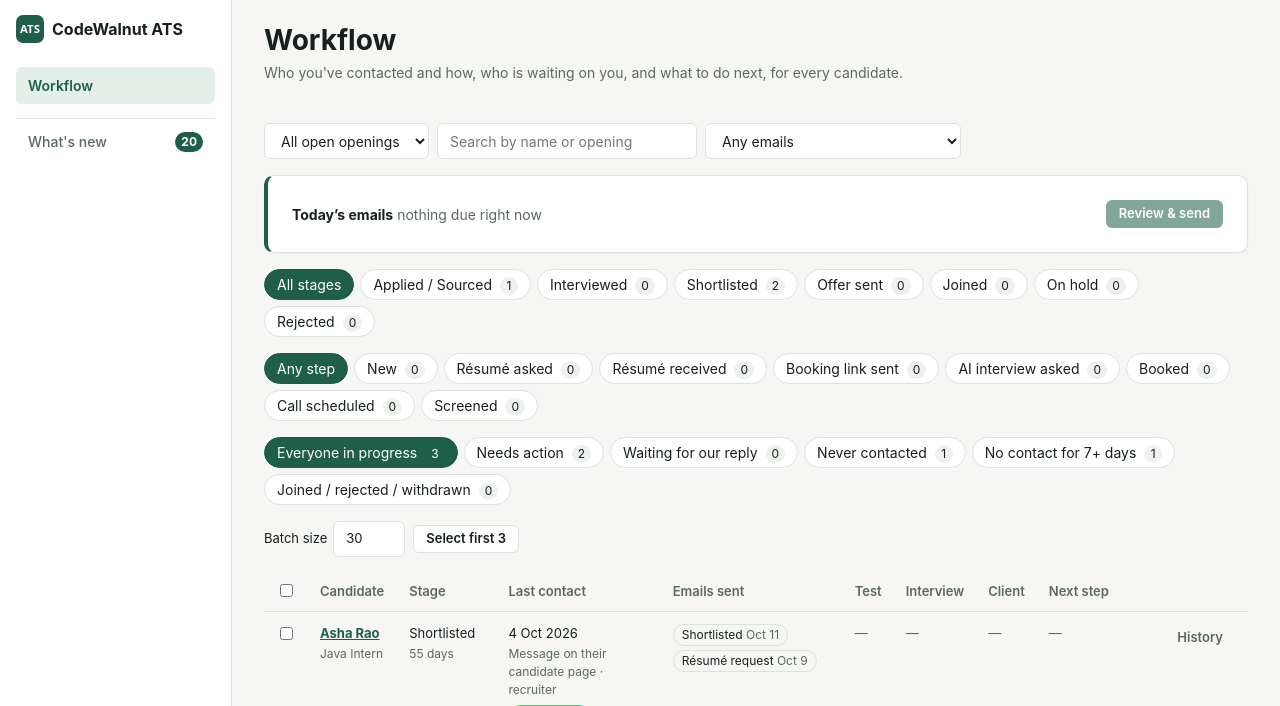
Test: WorkflowPage (WF-01…WF-05) › works by stage: shows emails sent, finds who has not had the shortlisted email, sends it and moves them (PIPE-23)
Expected: the text "Asha Rao" is shown, [320,624,380,640]
Expected: the text "Shortlisted" is shown, [682,626,743,642]
Click the button "Shortlisted 2": (736, 284) [674,269,798,300]
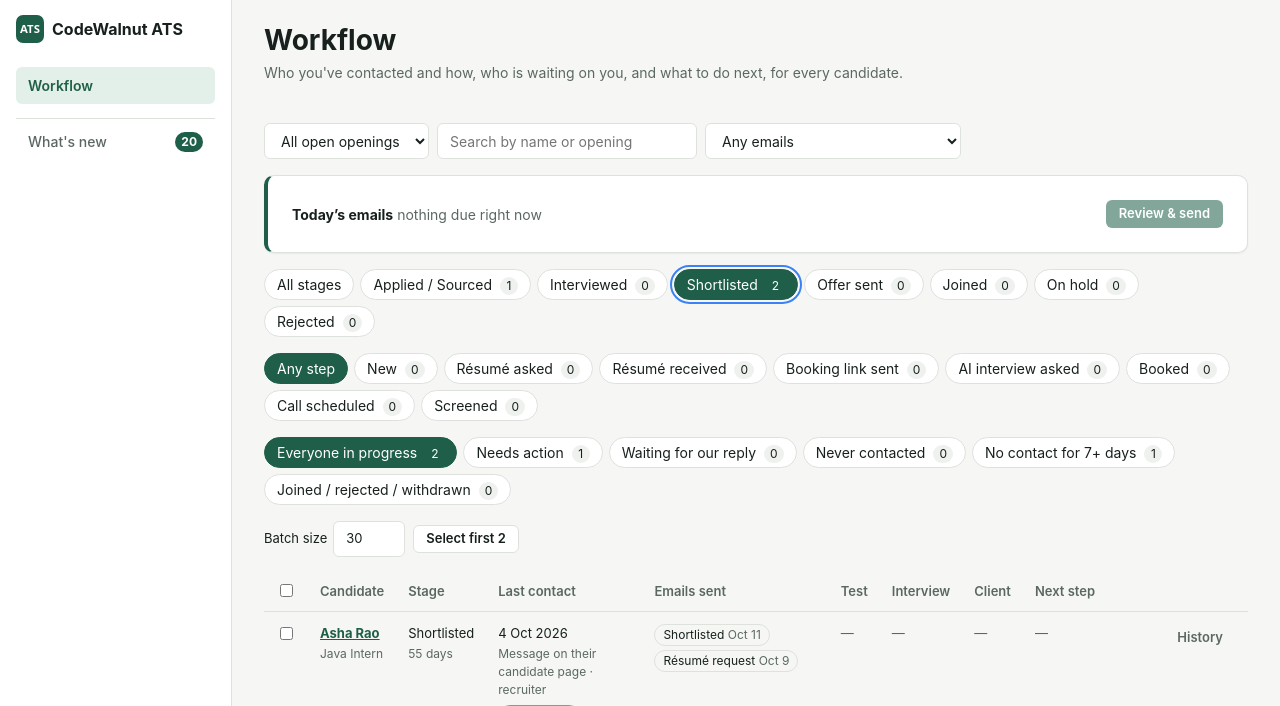
Select "No “Shortlisted” yet" in the dropdown named "Filter by email sent": (833, 141) [705,123,961,159]
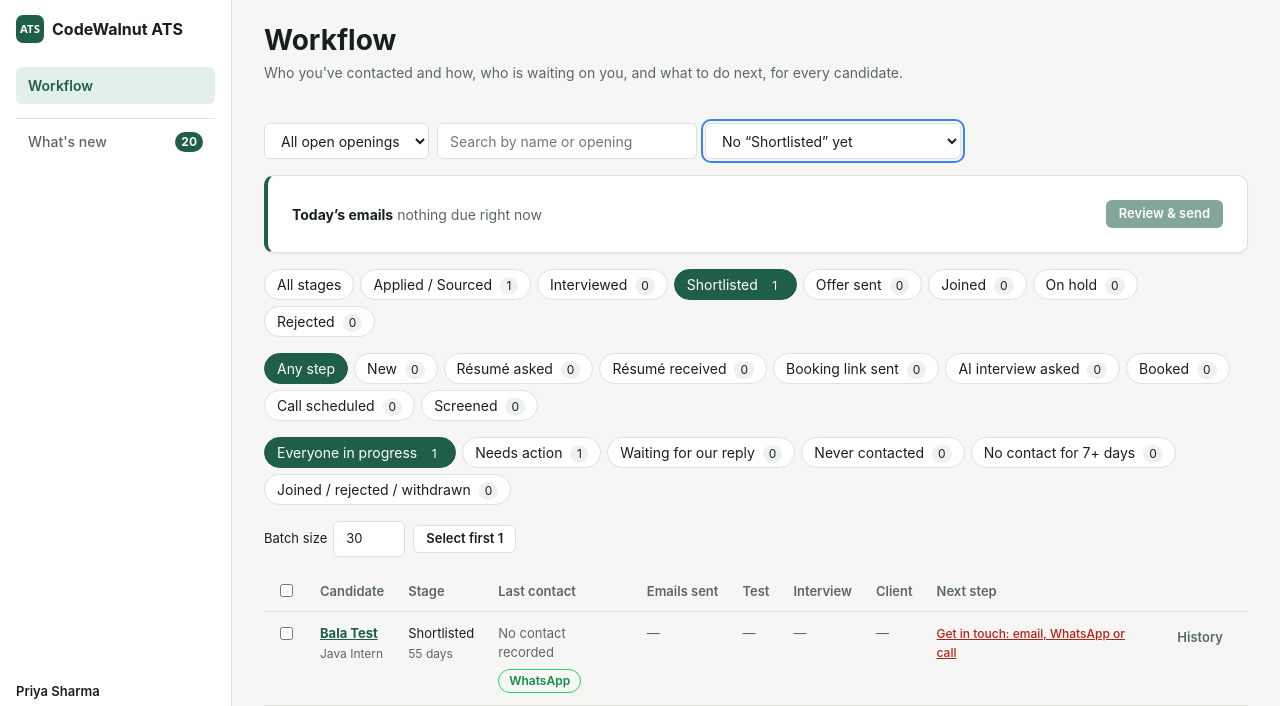
Expected: the text "Bala Test" is shown, [320,624,378,640]
Expected: the link "Asha Rao" is gone
Click the button "Select first 1": (465, 539) [413,525,516,553]
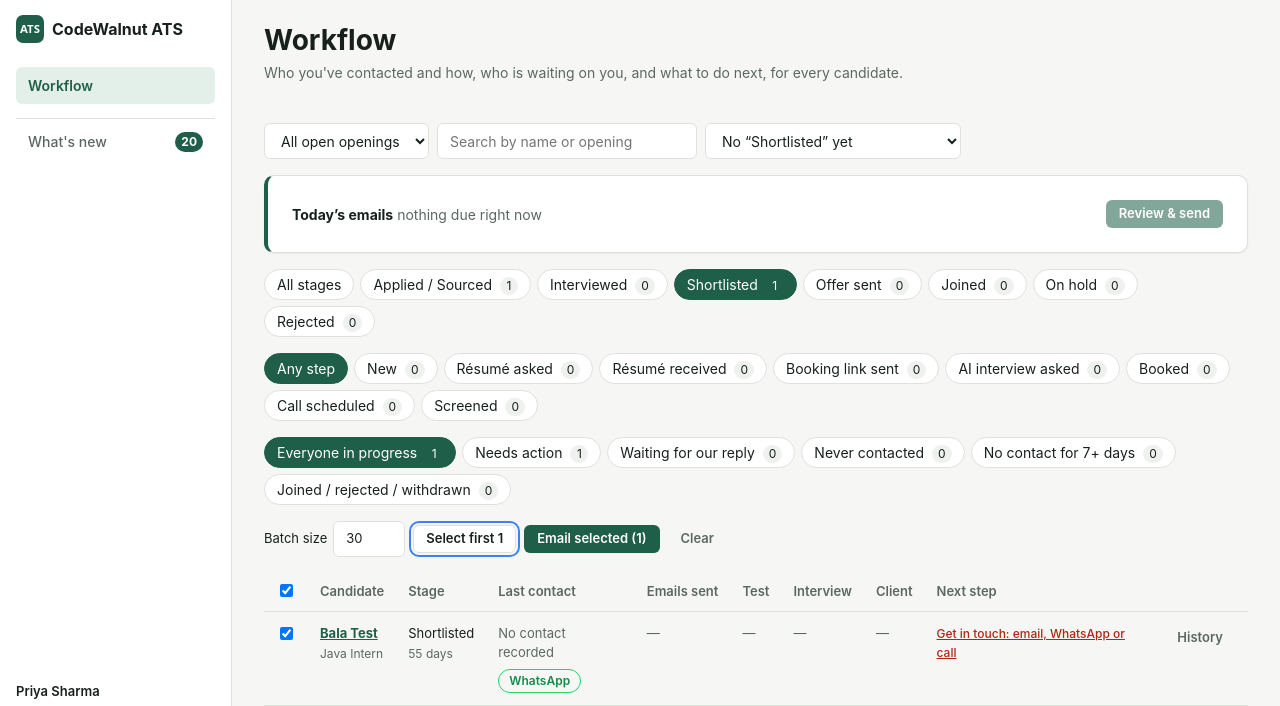
Click the button "Email selected (1)": (592, 539) [524,525,660,553]
(page scrolled)
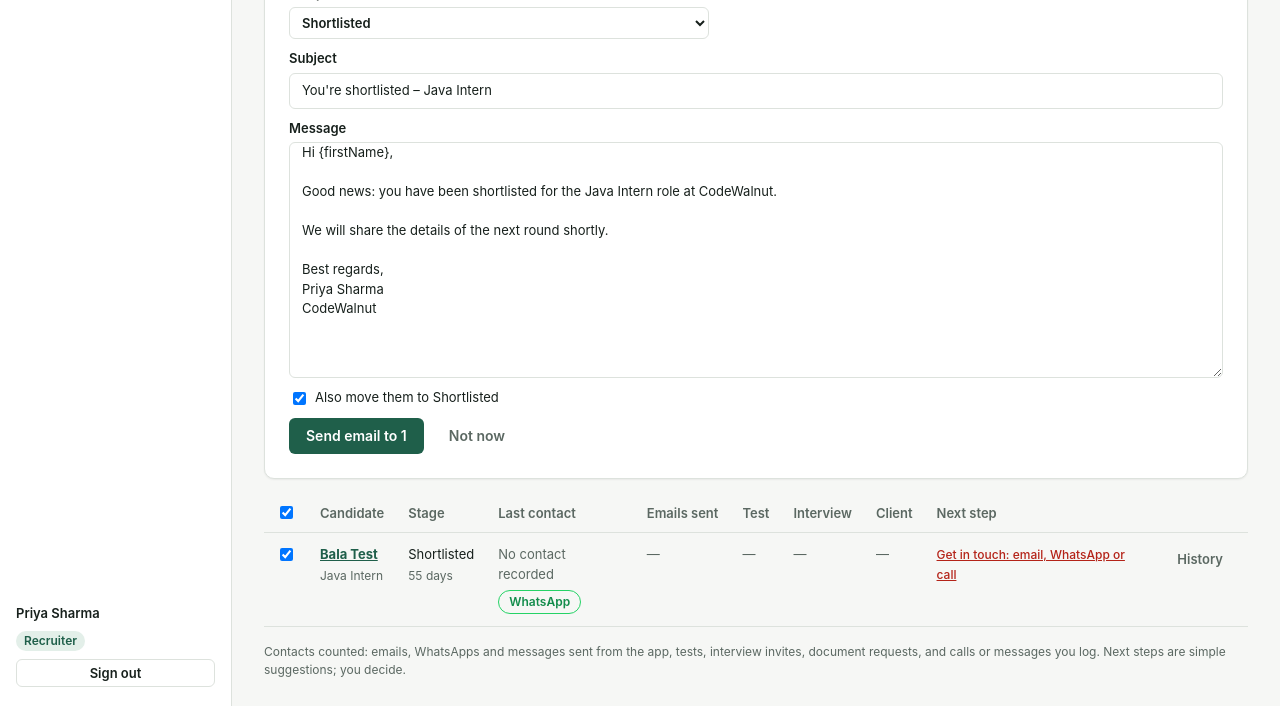
Expected: the dropdown labelled "Template" shows "Shortlisted", [289,8,709,40]
Expected: the checkbox labelled "Also move them to Shortlisted" is checked, [293,392,306,405]
Click the button "Send email to 1": (356, 436) [289,418,424,454]
(page scrolled)
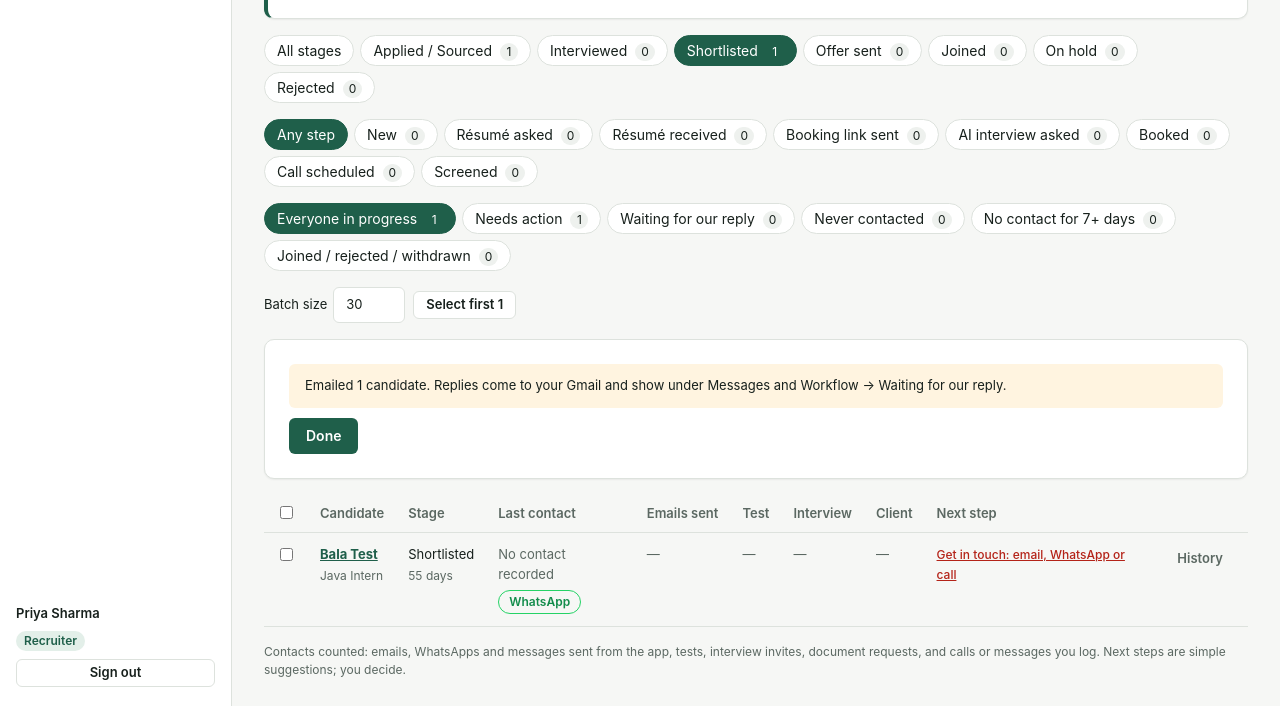
Expected: the text "Emailed 1 candidate" is shown, [289,364,1223,408]
